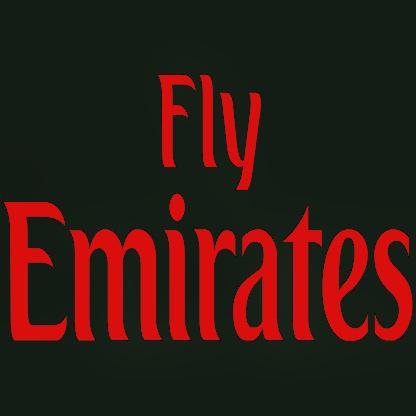Emirates: (7, 197, 415, 348)
